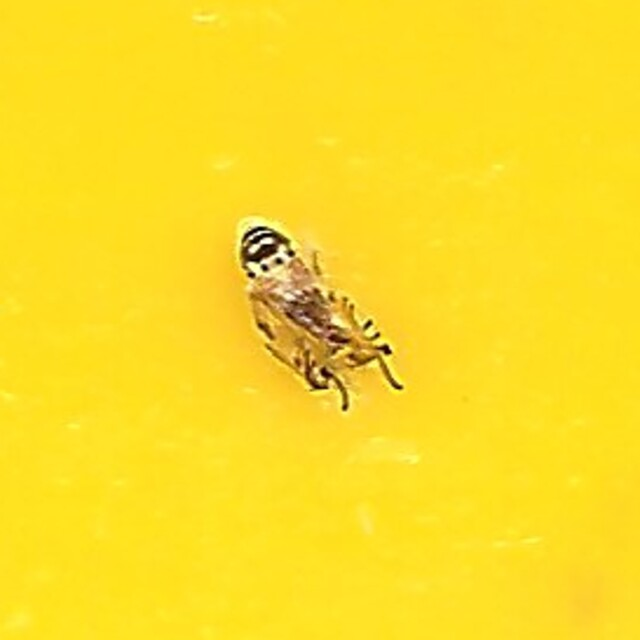Hemiptera: (234, 220, 406, 420)
